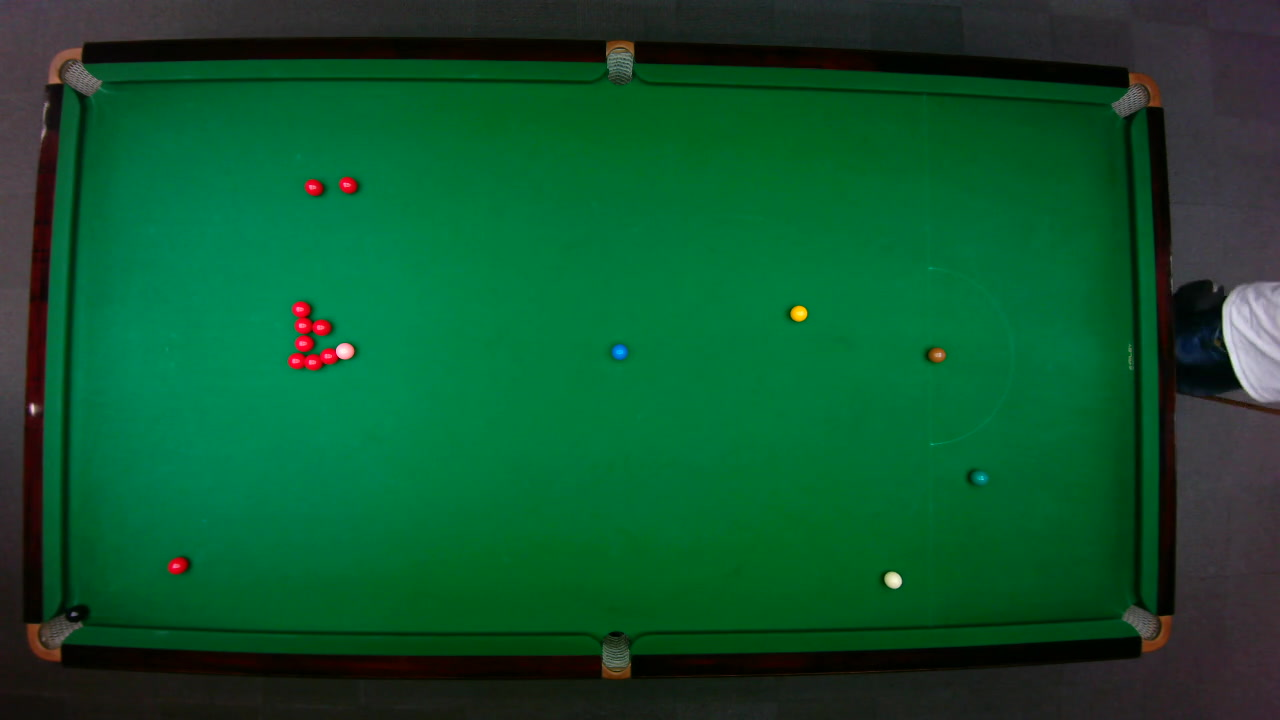bag: (25, 609, 82, 661), (45, 47, 102, 96), (1119, 603, 1171, 652), (1108, 71, 1161, 118), (600, 629, 630, 680), (605, 38, 633, 85)
black: (64, 605, 85, 622)
blue: (610, 342, 628, 360)
brown: (926, 346, 946, 362)
green: (969, 468, 989, 486)
pink: (334, 341, 355, 360)
red: (165, 555, 189, 575), (302, 177, 324, 196), (337, 175, 358, 194), (302, 352, 324, 370), (290, 299, 311, 317), (310, 317, 331, 335), (318, 346, 337, 365), (293, 334, 313, 352), (286, 351, 305, 369), (292, 317, 312, 334)
white: (882, 570, 903, 589)
yellow: (788, 303, 808, 322)
zone: (927, 265, 1013, 445)
